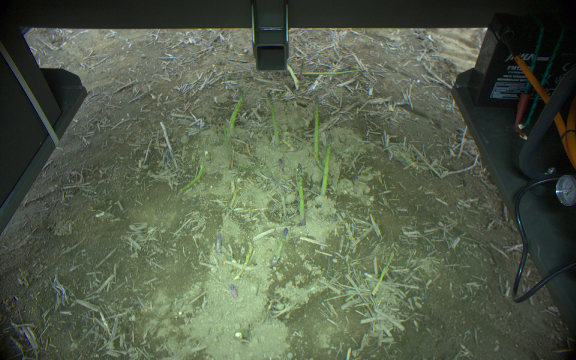aspa: (371, 248, 396, 296), (317, 133, 334, 196), (264, 91, 280, 146), (231, 243, 254, 280), (179, 162, 205, 194), (294, 161, 306, 227), (271, 227, 290, 268), (228, 95, 245, 134), (310, 94, 319, 162), (213, 234, 225, 254)
